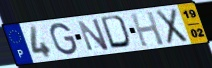4: (30, 24, 53, 59)
D: (99, 14, 134, 50)
G: (49, 22, 79, 56)
H: (129, 10, 166, 48)
N: (76, 17, 111, 52)
X: (155, 7, 190, 46)
